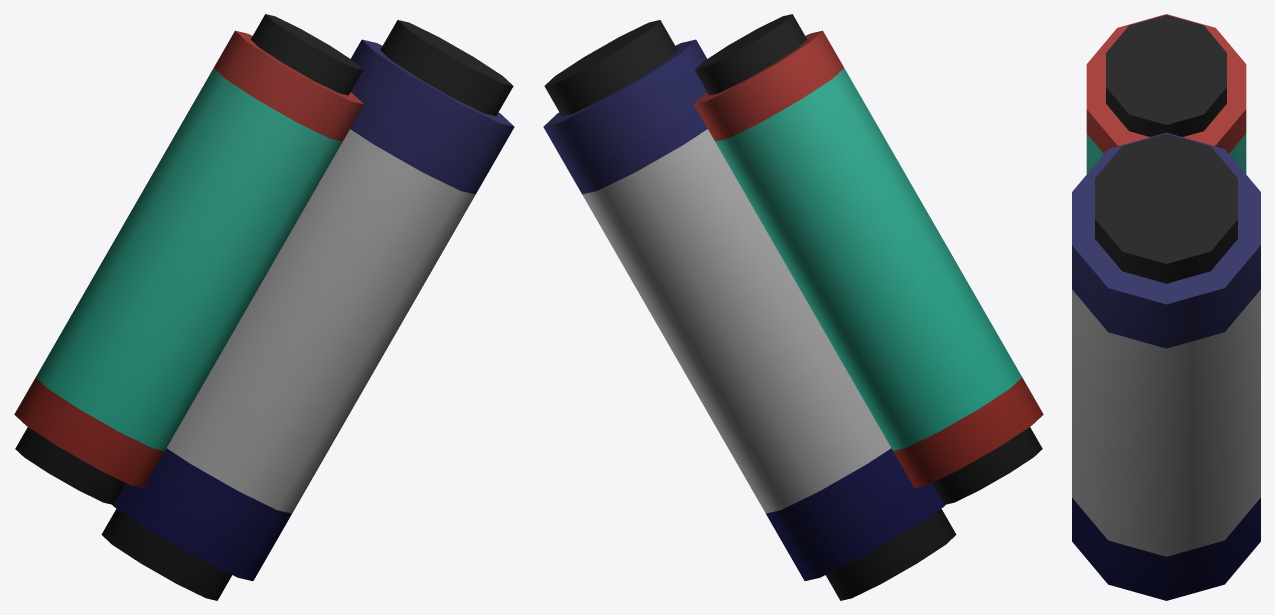
File: Scroll Magic.FBX
The picture shows the model from 3 angles, left to right: view 1: azimuth 30°, elevation 25°; view 2: azimuth 150°, elevation 25°; view 3: azimuth 270°, elevation 25°; orthographic projection. The views are drawn at different scales.
Parts seen in each view (by area): view 1: Scroll Magic; view 2: Scroll Magic; view 3: Scroll Magic.
Boxes of the visible parts, bbox=[...] form: Scroll Magic: bbox=[14, 14, 514, 600]; Scroll Magic: bbox=[543, 14, 1043, 600]; Scroll Magic: bbox=[1072, 14, 1260, 600].
Bounding box in the file's own units: 48.19 × 53.09 × 14.6.
1 material, 1 textured.
